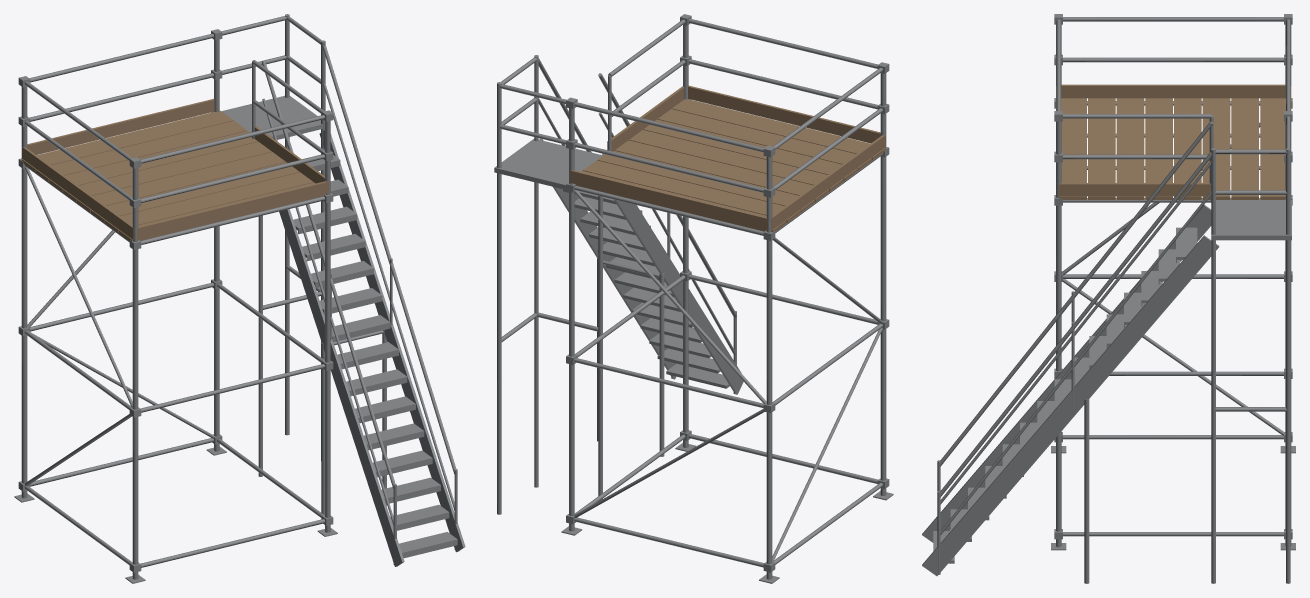
The model's file is scaffold_stairs.glb.
The picture shows the model from 3 angles, left to right: view 1: azimuth 30°, elevation 25°; view 2: azimuth 150°, elevation 25°; view 3: azimuth 270°, elevation 25°; orthographic projection. The views are drawn at different scales.
Visible parts, largest first — view 1: steel__scaffold_stairs__solid, plank__scaffold_stairs__solid, steel__scaffold_stairs__ns; view 2: steel__scaffold_stairs__solid, plank__scaffold_stairs__solid, steel__scaffold_stairs__ns; view 3: steel__scaffold_stairs__solid, plank__scaffold_stairs__solid, steel__scaffold_stairs__ns.
Boxes of the visible parts, x1,y1,x2,y2 form: steel__scaffold_stairs__solid: (14, 14, 465, 583); plank__scaffold_stairs__solid: (21, 98, 329, 241); steel__scaffold_stairs__ns: (18, 29, 457, 572); steel__scaffold_stairs__solid: (494, 18, 893, 583); plank__scaffold_stairs__solid: (570, 85, 886, 231); steel__scaffold_stairs__ns: (566, 14, 889, 572); steel__scaffold_stairs__solid: (922, 17, 1295, 583); plank__scaffold_stairs__solid: (1056, 84, 1291, 199); steel__scaffold_stairs__ns: (933, 14, 1292, 550).
Bounding box in the file's own units: 3.4 × 5.01 × 3.91.
